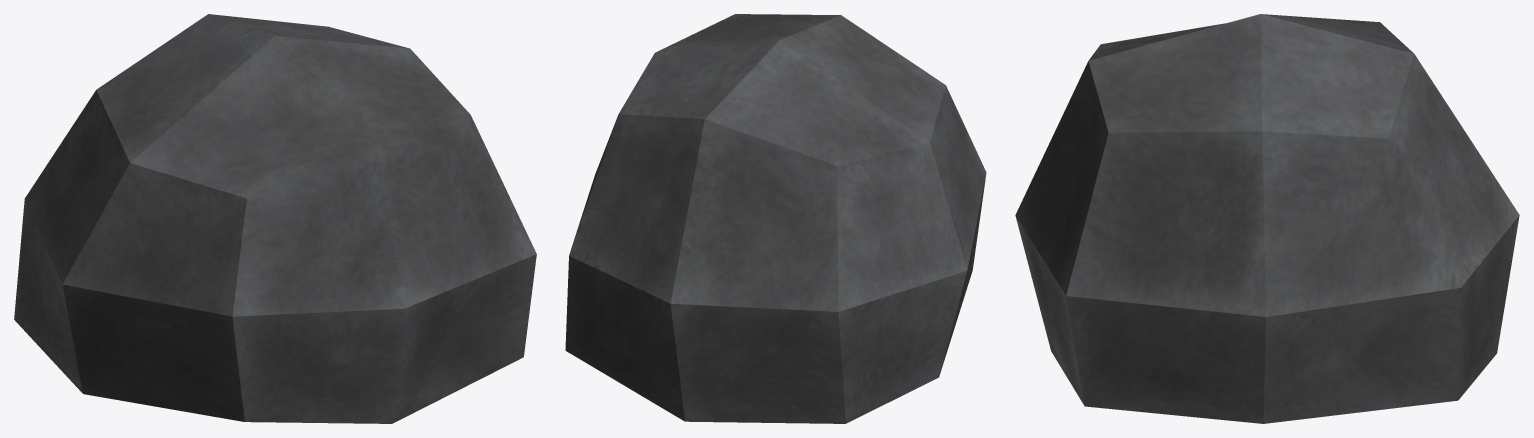
The model's file is stone_01.fbx.
The picture shows the model from 3 angles, left to right: view 1: azimuth 30°, elevation 25°; view 2: azimuth 150°, elevation 25°; view 3: azimuth 270°, elevation 25°; orthographic projection. The views are drawn at different scales.
Visible parts, largest first — view 1: stone; view 2: stone; view 3: stone.
Part boxes in pixels (x1,y1,x2,y2): stone: (14,14,536,423); stone: (565,14,986,423); stone: (1015,14,1519,423).
Size of the model in its own units: 1.8 by 1.51 by 1.86.
